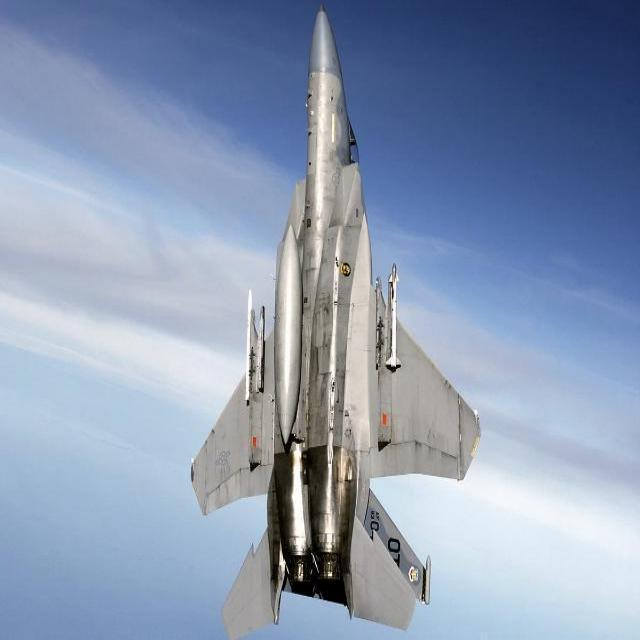missile: (238, 287, 254, 410), (386, 263, 402, 371)
